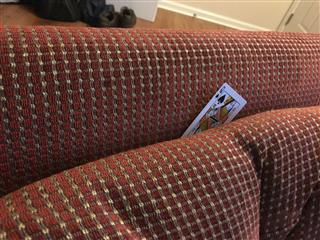QueenOfSpades: (179, 81, 247, 138)
